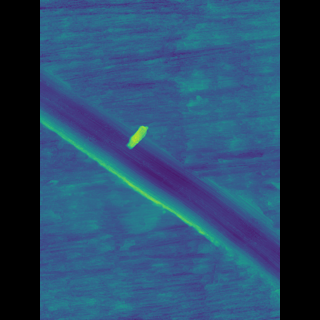Loch: (69, 64, 250, 286)
